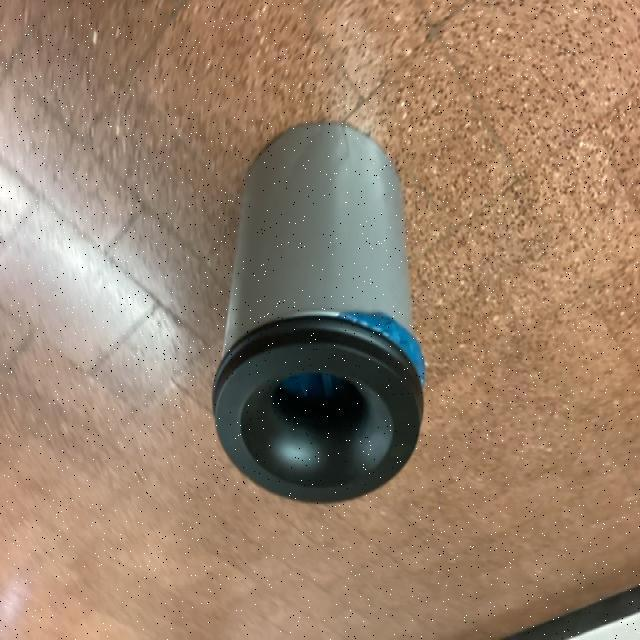garbage container: (189, 106, 438, 541)
